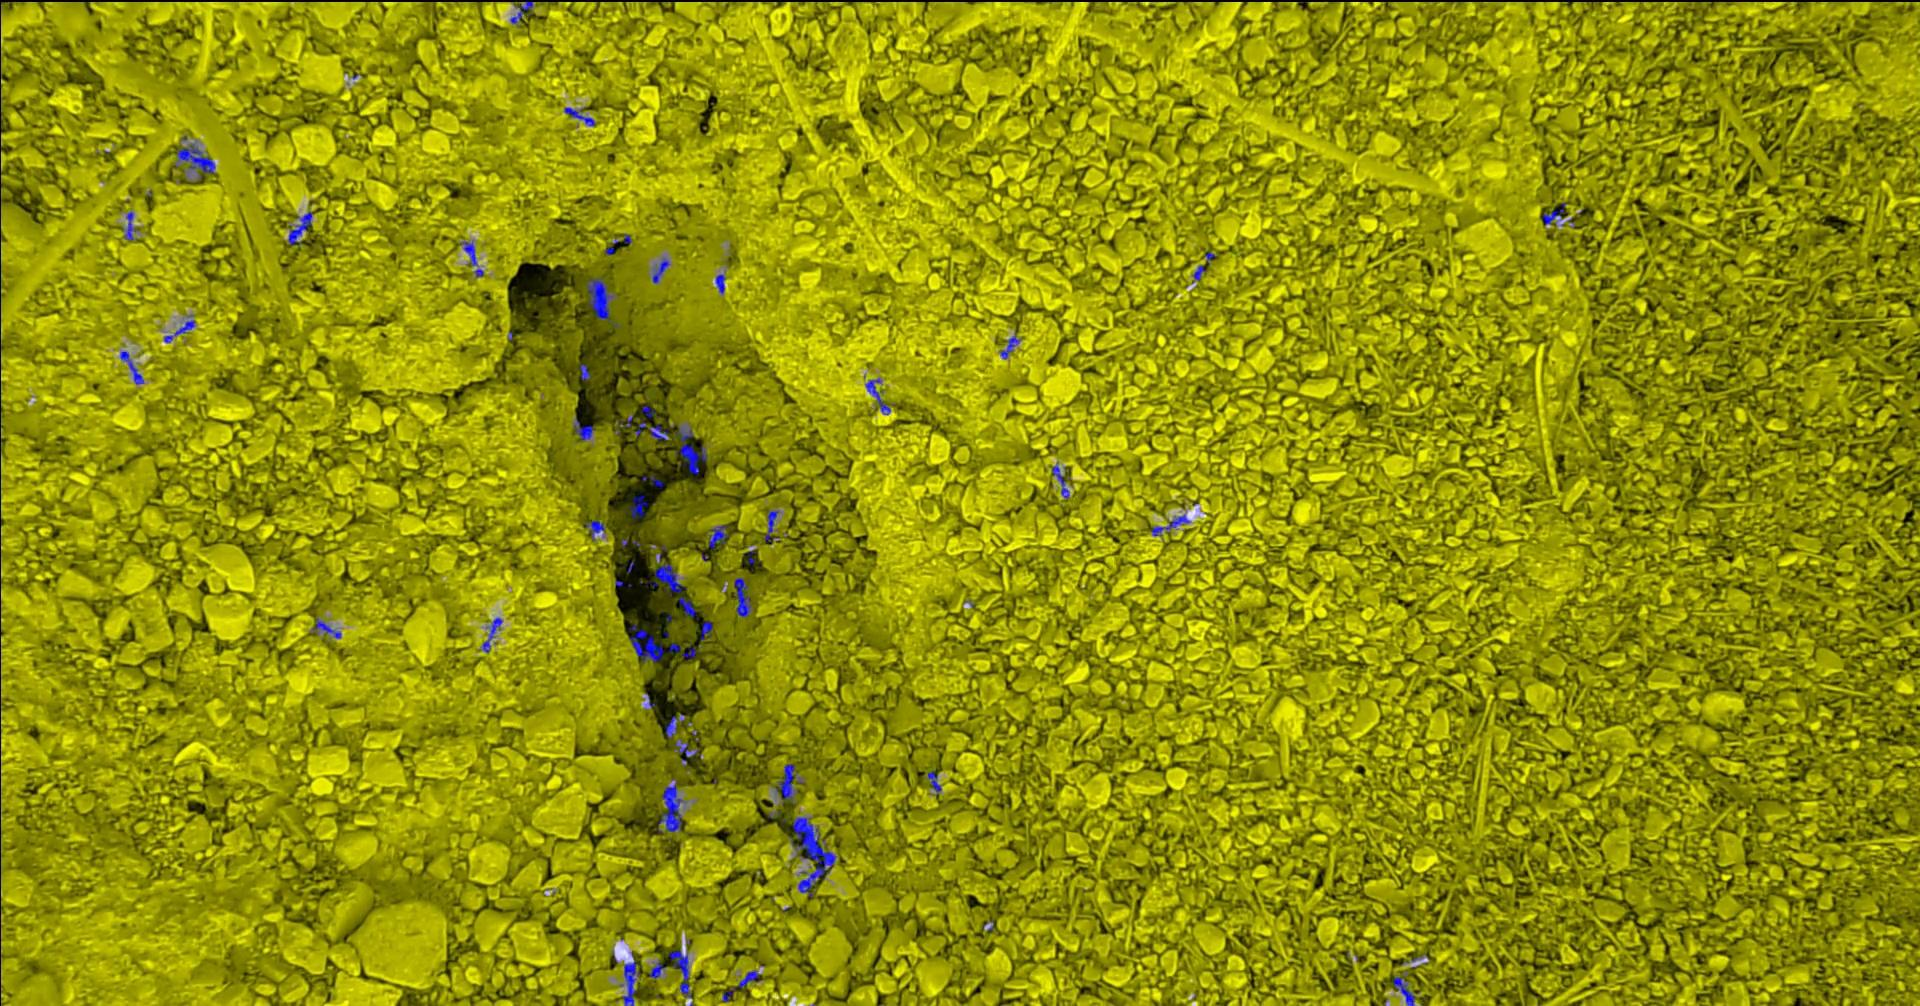ant: (654, 563, 696, 616), (674, 426, 707, 475), (177, 144, 215, 180), (627, 622, 663, 662), (657, 780, 683, 831), (668, 939, 691, 997), (775, 763, 805, 805), (585, 277, 612, 323), (863, 379, 890, 414), (458, 240, 483, 277), (287, 211, 312, 245), (622, 959, 641, 1005), (119, 351, 143, 384), (1150, 514, 1189, 535), (733, 577, 750, 617), (1392, 976, 1415, 1005), (483, 617, 502, 652), (311, 617, 342, 638), (676, 738, 698, 765), (563, 107, 596, 124), (1051, 465, 1069, 498), (999, 332, 1021, 358), (509, 0, 532, 23), (1542, 202, 1564, 224), (173, 314, 196, 335), (664, 713, 684, 737), (629, 494, 648, 520), (573, 417, 593, 439), (651, 258, 669, 283), (122, 211, 137, 240), (764, 511, 778, 542), (709, 525, 728, 547), (584, 520, 604, 540), (737, 969, 759, 987), (649, 423, 668, 441), (698, 620, 712, 644), (927, 770, 941, 793), (649, 959, 665, 978), (641, 474, 663, 486), (715, 273, 725, 293), (1192, 264, 1205, 279), (579, 363, 590, 380), (641, 405, 654, 418), (682, 647, 695, 658)
